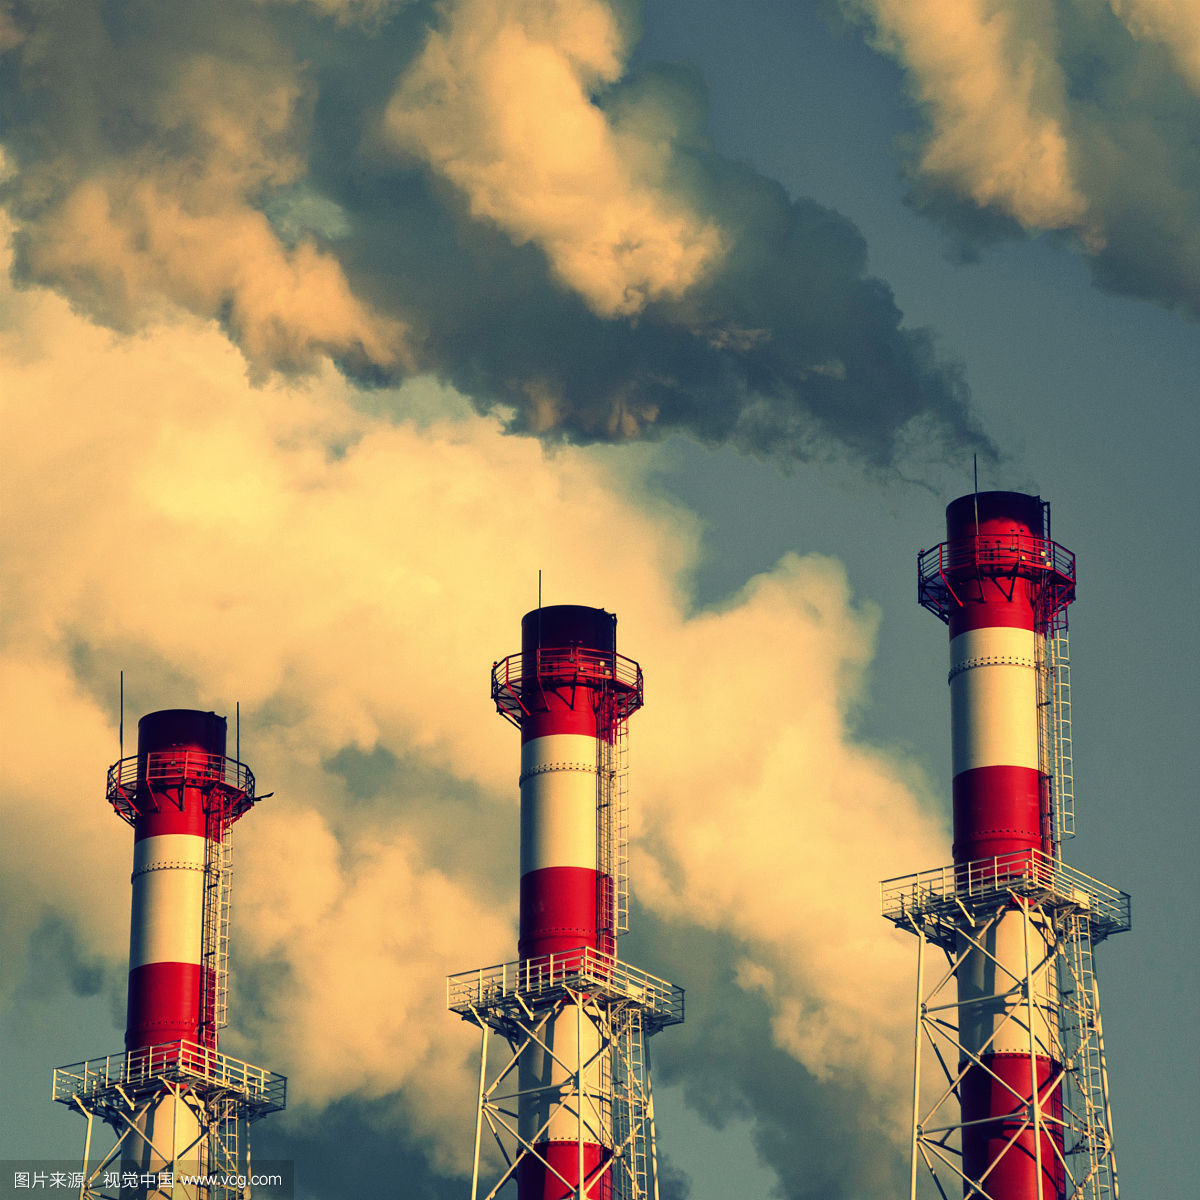dust: (427, 85, 1098, 558)
